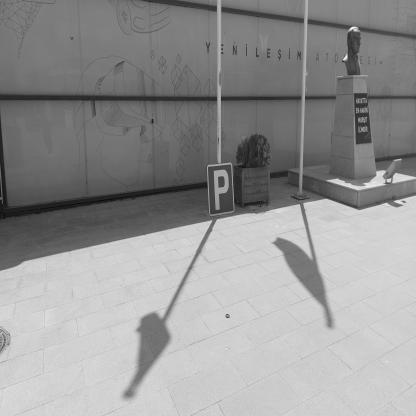Parking-Sign: (208, 164, 236, 218)
